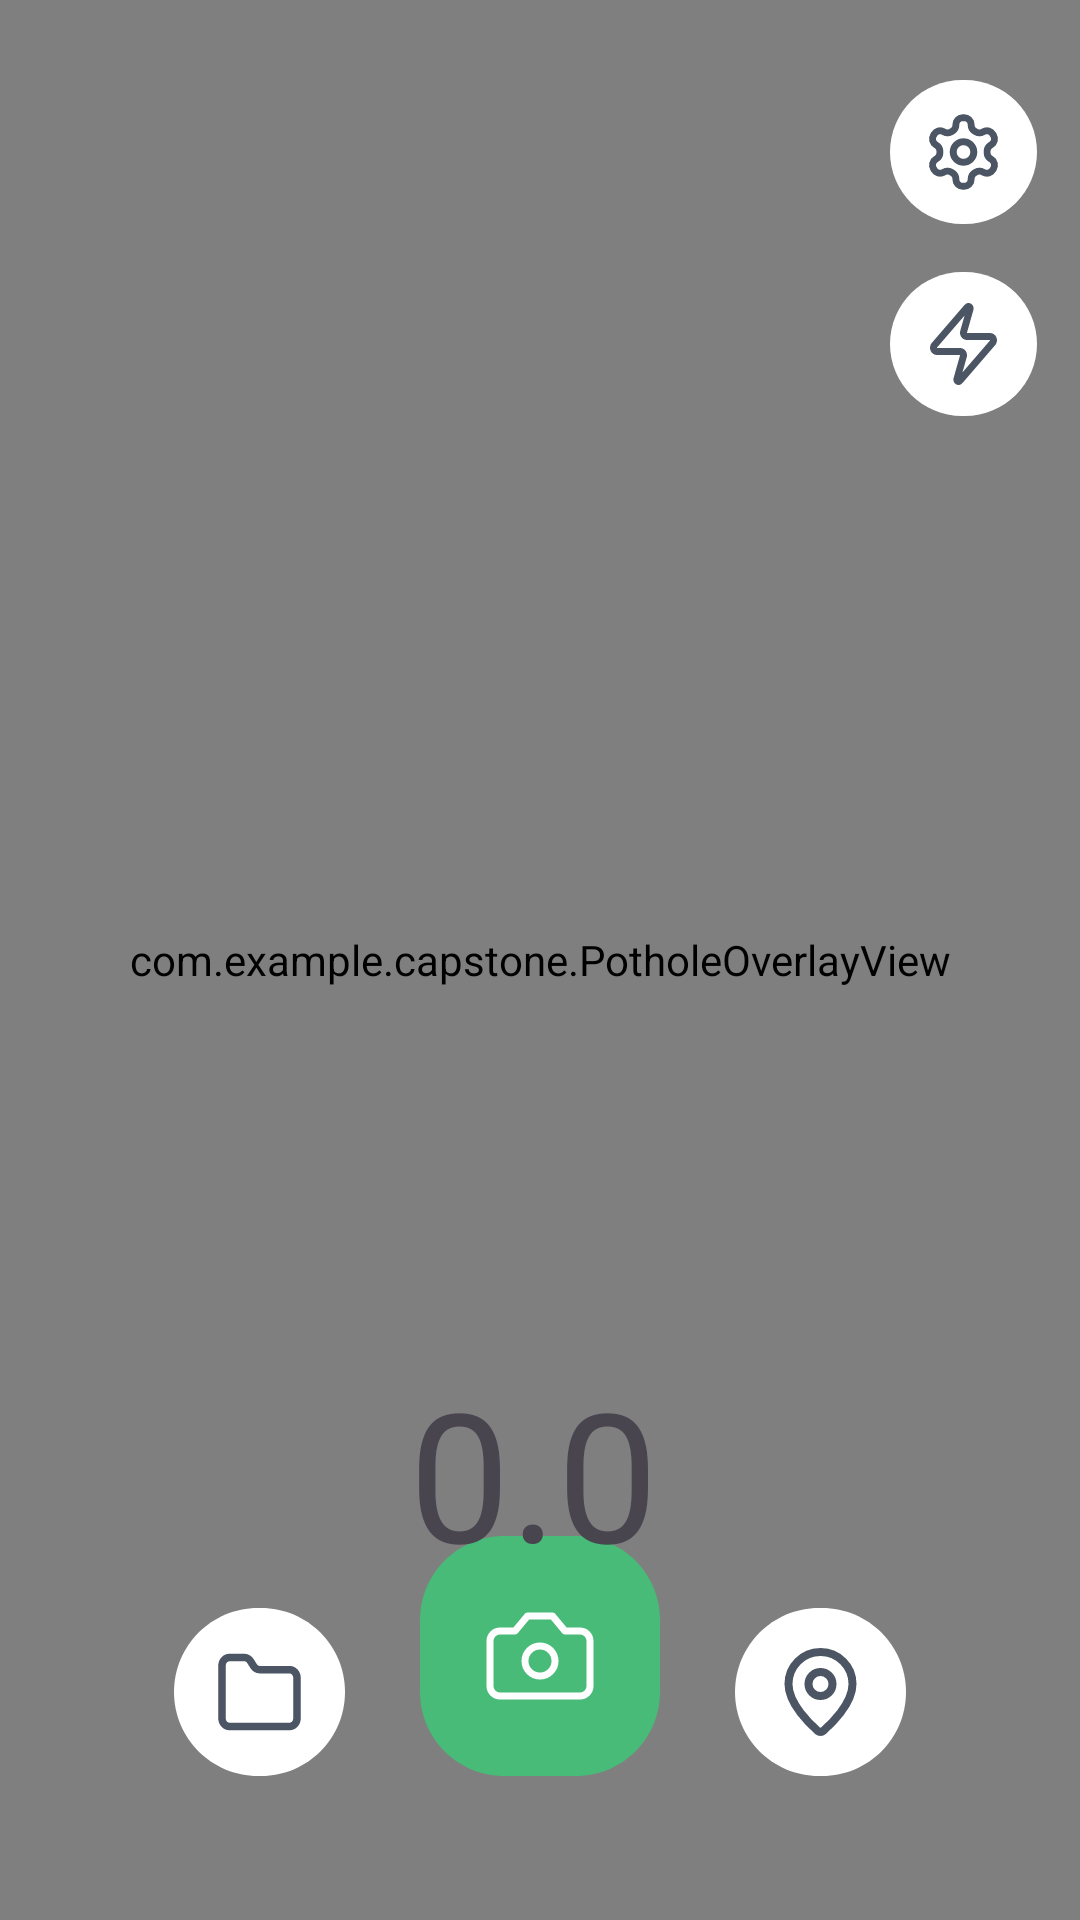

Screen size 1080x1920. Icon name, then its center in pixels as (x=x, y=y):
설정 버튼: (x=963, y=152)
저장소 버튼: (x=259, y=1692)
지도 버튼: (x=820, y=1692)
카메라 버튼: (x=540, y=1656)
플래쉬 버튼: (x=963, y=344)
